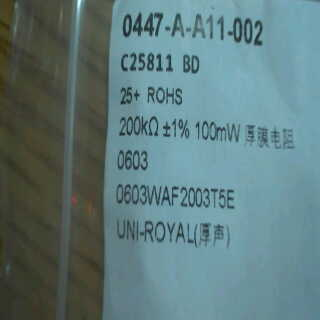200kR: (113, 110, 160, 145)
